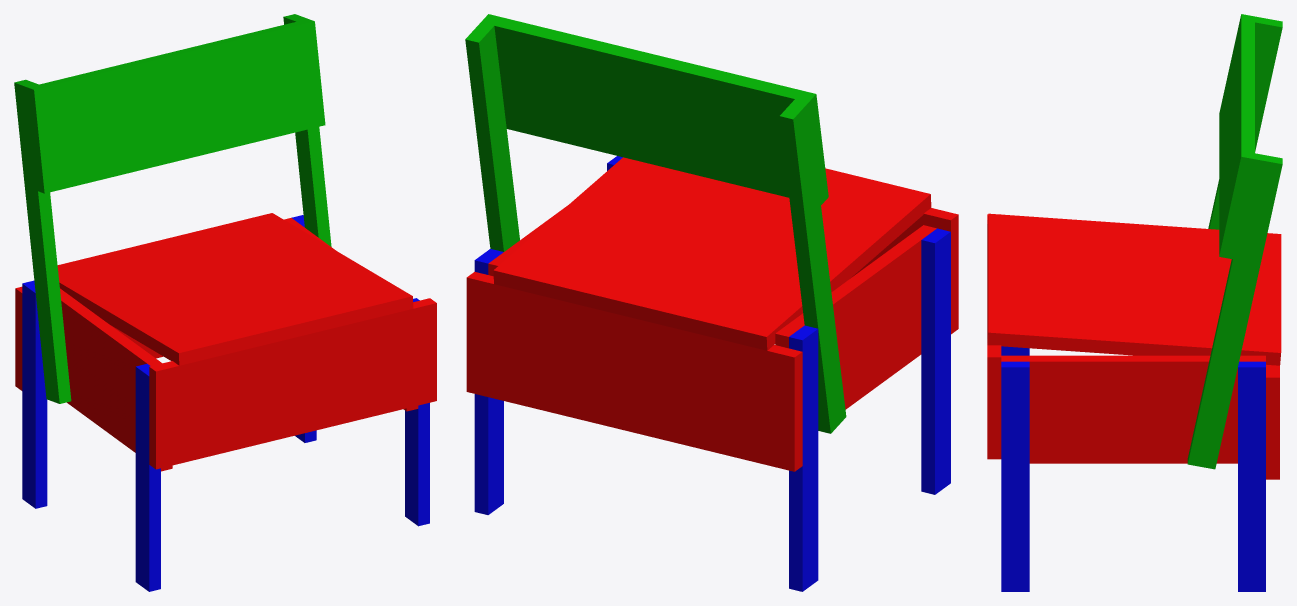
The model's file is result.glb.
3 views of the same model, side by side, from view 1: azimuth 30°, elevation 25°; view 2: azimuth 150°, elevation 25°; view 3: azimuth 270°, elevation 25° (orthographic). The views are drawn at different scales.
Parts seen in each view (by area): view 1: 39f4be1b-1fe4-4aec-9632-d33daef1bb99__back rest plank, 032408fb-b6e6-4a55-ba90-c1f7a835d019__back rest plank, 2f8c7774-c1d4-44b3-b62f-a7b92f88bc5c__base front, 72392a0c-c482-40b4-95ba-9f45058dcf68__base front, 6210a7e8-50ea-4ccc-9fca-2861804ef449__seat board, 35a41084-2841-4bca-84de-67ef51ff776b__back rest diagonal, dc374143-11ae-49a2-9cde-0970ffb1ee53__seat board, 131d87c5-1a9c-4716-bd1c-20813e82a5fb__seat board, 1fc49fc1-dad0-4643-b481-3ff685be1fd0__seat board, 3102aa34-87c0-4222-9cf2-298352f0e760__seat board, 45dfd619-a821-4b10-9f48-cd714be016e8__leg back left, 2626580f-69b9-491c-98fc-ab8b92860207__base left (+5 smaller); view 2: e21bbb21-f09a-428b-9098-ac0071fad50a__base back, 7661067e-16f8-4387-b712-c2a72ed7cef8__base back, 39f4be1b-1fe4-4aec-9632-d33daef1bb99__back rest plank, 032408fb-b6e6-4a55-ba90-c1f7a835d019__back rest plank, 6210a7e8-50ea-4ccc-9fca-2861804ef449__seat board, 35a41084-2841-4bca-84de-67ef51ff776b__back rest diagonal, 131d87c5-1a9c-4716-bd1c-20813e82a5fb__seat board, 3102aa34-87c0-4222-9cf2-298352f0e760__seat board, dc374143-11ae-49a2-9cde-0970ffb1ee53__seat board, 1fc49fc1-dad0-4643-b481-3ff685be1fd0__seat board, c056f0db-b1a3-4143-af91-07f4540d7dfe__leg front left, 5e058dce-6567-4577-a489-b5b4eedf5d56__back rest diagonal (+5 smaller); view 3: 8c6b9c2d-a7b3-4475-9f4b-9cef45c7ffea__base right, 3102aa34-87c0-4222-9cf2-298352f0e760__seat board, 5e058dce-6567-4577-a489-b5b4eedf5d56__back rest diagonal, 6fe4cdcb-7d95-4b1c-a5c2-35d4faf49c21__base right, dfc15a5e-f63f-4918-915c-d93b7a93c043__leg front right, dc374143-11ae-49a2-9cde-0970ffb1ee53__seat board, 1fc49fc1-dad0-4643-b481-3ff685be1fd0__seat board, 726850ab-1337-4988-a3d1-99fe37c9ba63__leg back right, 131d87c5-1a9c-4716-bd1c-20813e82a5fb__seat board, 6210a7e8-50ea-4ccc-9fca-2861804ef449__seat board, 39f4be1b-1fe4-4aec-9632-d33daef1bb99__back rest plank, 032408fb-b6e6-4a55-ba90-c1f7a835d019__back rest plank (+5 smaller).
Boxes of the visible parts, x1=… form: 39f4be1b-1fe4-4aec-9632-d33daef1bb99__back rest plank: x1=27, y1=19, x2=319, y2=141; 032408fb-b6e6-4a55-ba90-c1f7a835d019__back rest plank: x1=32, y1=73, x2=325, y2=193; 2f8c7774-c1d4-44b3-b62f-a7b92f88bc5c__base front: x1=149, y1=298, x2=436, y2=420; 72392a0c-c482-40b4-95ba-9f45058dcf68__base front: x1=149, y1=352, x2=436, y2=469; 6210a7e8-50ea-4ccc-9fca-2861804ef449__seat board: x1=57, y1=258, x2=225, y2=365; 35a41084-2841-4bca-84de-67ef51ff776b__back rest diagonal: x1=14, y1=79, x2=71, y2=403; dc374143-11ae-49a2-9cde-0970ffb1ee53__seat board: x1=179, y1=224, x2=366, y2=331; 131d87c5-1a9c-4716-bd1c-20813e82a5fb__seat board: x1=85, y1=247, x2=272, y2=354; 1fc49fc1-dad0-4643-b481-3ff685be1fd0__seat board: x1=132, y1=235, x2=319, y2=342; 3102aa34-87c0-4222-9cf2-298352f0e760__seat board: x1=226, y1=213, x2=413, y2=319; 45dfd619-a821-4b10-9f48-cd714be016e8__leg back left: x1=22, y1=280, x2=47, y2=508; 2626580f-69b9-491c-98fc-ab8b92860207__base left: x1=60, y1=288, x2=161, y2=403; e21bbb21-f09a-428b-9098-ac0071fad50a__base back: x1=466, y1=271, x2=802, y2=414; 7661067e-16f8-4387-b712-c2a72ed7cef8__base back: x1=466, y1=335, x2=802, y2=471; 39f4be1b-1fe4-4aec-9632-d33daef1bb99__back rest plank: x1=481, y1=14, x2=822, y2=153; 032408fb-b6e6-4a55-ba90-c1f7a835d019__back rest plank: x1=500, y1=77, x2=828, y2=204; 6210a7e8-50ea-4ccc-9fca-2861804ef449__seat board: x1=712, y1=180, x2=931, y2=350; 35a41084-2841-4bca-84de-67ef51ff776b__back rest diagonal: x1=779, y1=99, x2=846, y2=433; 131d87c5-1a9c-4716-bd1c-20813e82a5fb__seat board: x1=657, y1=168, x2=875, y2=337; 3102aa34-87c0-4222-9cf2-298352f0e760__seat board: x1=493, y1=157, x2=677, y2=297; dc374143-11ae-49a2-9cde-0970ffb1ee53__seat board: x1=548, y1=170, x2=731, y2=310; 1fc49fc1-dad0-4643-b481-3ff685be1fd0__seat board: x1=602, y1=184, x2=786, y2=323; c056f0db-b1a3-4143-af91-07f4540d7dfe__leg front left: x1=921, y1=228, x2=950, y2=494; 5e058dce-6567-4577-a489-b5b4eedf5d56__back rest diagonal: x1=465, y1=22, x2=519, y2=251; 8c6b9c2d-a7b3-4475-9f4b-9cef45c7ffea__base right: x1=1001, y1=355, x2=1265, y2=412; 3102aa34-87c0-4222-9cf2-298352f0e760__seat board: x1=987, y1=309, x2=1281, y2=365; 5e058dce-6567-4577-a489-b5b4eedf5d56__back rest diagonal: x1=1187, y1=153, x2=1282, y2=469; 6fe4cdcb-7d95-4b1c-a5c2-35d4faf49c21__base right: x1=1029, y1=412, x2=1237, y2=463; dfc15a5e-f63f-4918-915c-d93b7a93c043__leg front right: x1=1001, y1=361, x2=1029, y2=591; dc374143-11ae-49a2-9cde-0970ffb1ee53__seat board: x1=987, y1=285, x2=1281, y2=329; 1fc49fc1-dad0-4643-b481-3ff685be1fd0__seat board: x1=987, y1=261, x2=1281, y2=305; 726850ab-1337-4988-a3d1-99fe37c9ba63__leg back right: x1=1238, y1=361, x2=1265, y2=591; 131d87c5-1a9c-4716-bd1c-20813e82a5fb__seat board: x1=987, y1=237, x2=1281, y2=281; 6210a7e8-50ea-4ccc-9fca-2861804ef449__seat board: x1=987, y1=213, x2=1281, y2=257; 39f4be1b-1fe4-4aec-9632-d33daef1bb99__back rest plank: x1=1230, y1=14, x2=1254, y2=209; 032408fb-b6e6-4a55-ba90-c1f7a835d019__back rest plank: x1=1219, y1=64, x2=1243, y2=259.
Bounding box in the file's own units: 600 × 853 × 525.
